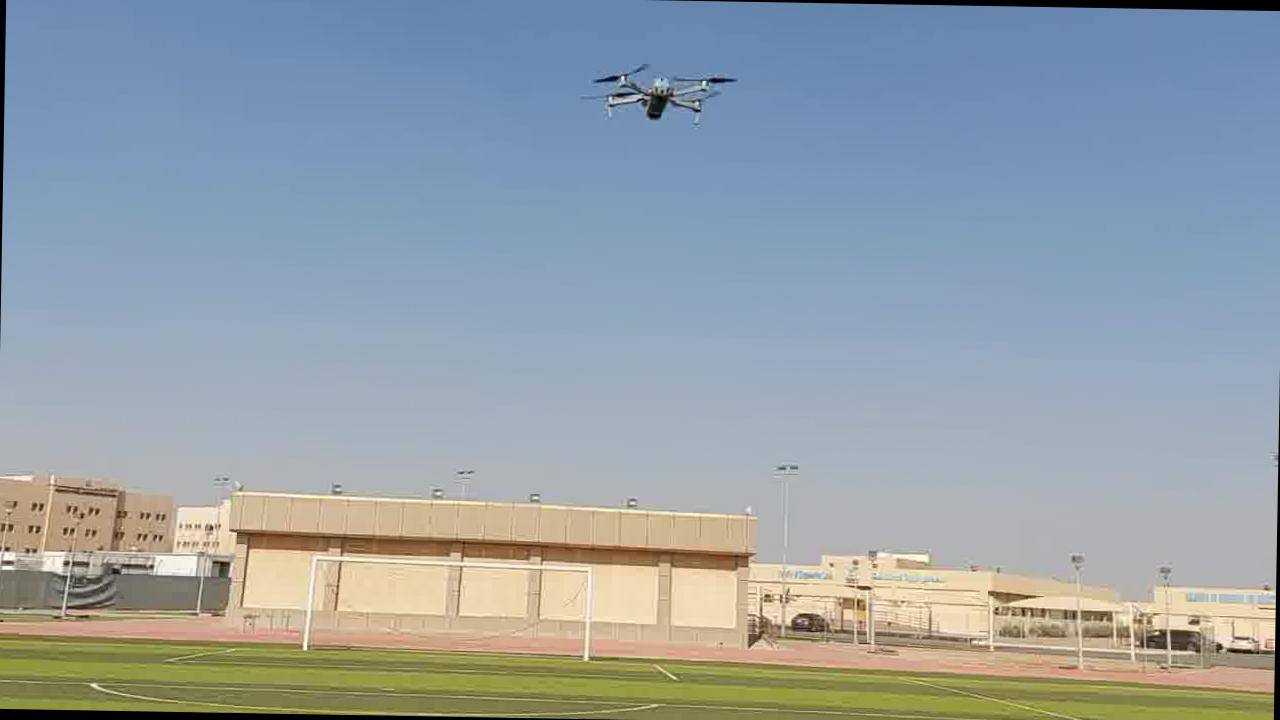drone: (586, 61, 742, 130)
